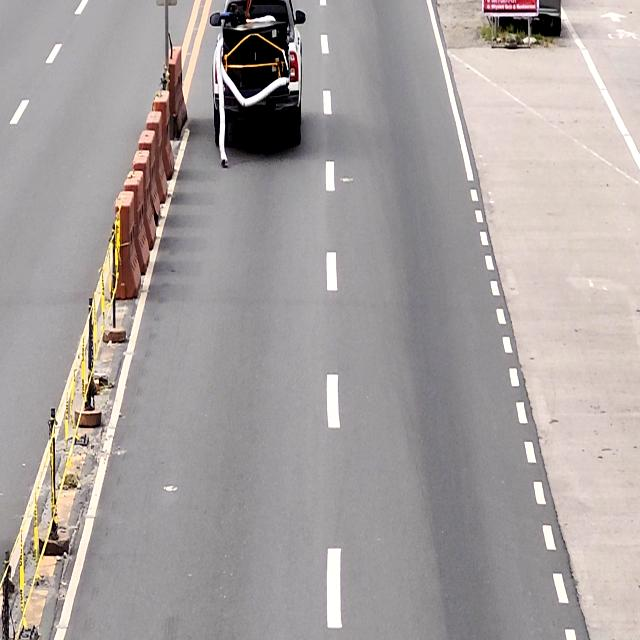Car: (209, 0, 308, 151)
